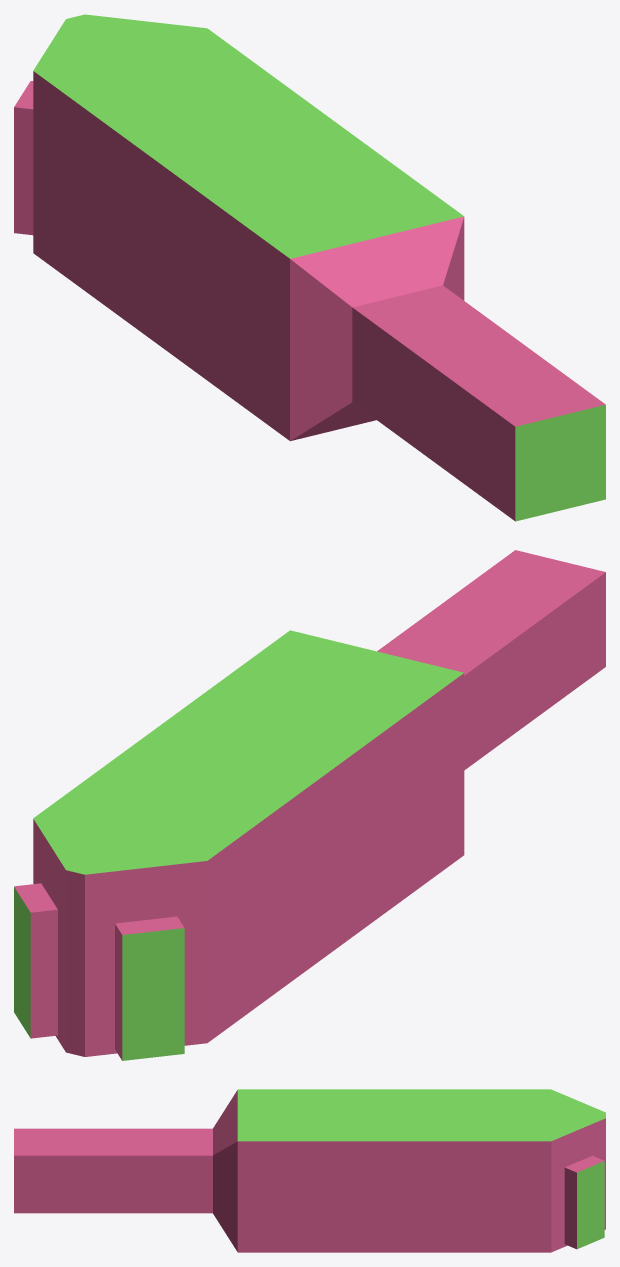
Rendered from about.003.glb.
3 renders of one model, top to bottom at view 1: azimuth 30°, elevation 25°; view 2: azimuth 150°, elevation 25°; view 3: azimuth 270°, elevation 25°, orthographic. The views are drawn at different scales.
Parts seen in each view (by area): view 1: Cube; view 2: Cube; view 3: Cube.
Boxes of the visible parts, x1=… form: Cube: x1=14, y1=14, x2=605, y2=521; Cube: x1=14, y1=550, x2=605, y2=1060; Cube: x1=14, y1=1089, x2=605, y2=1252.
Bounding box in the file's own units: 9.26 × 9.26 × 44.65.
